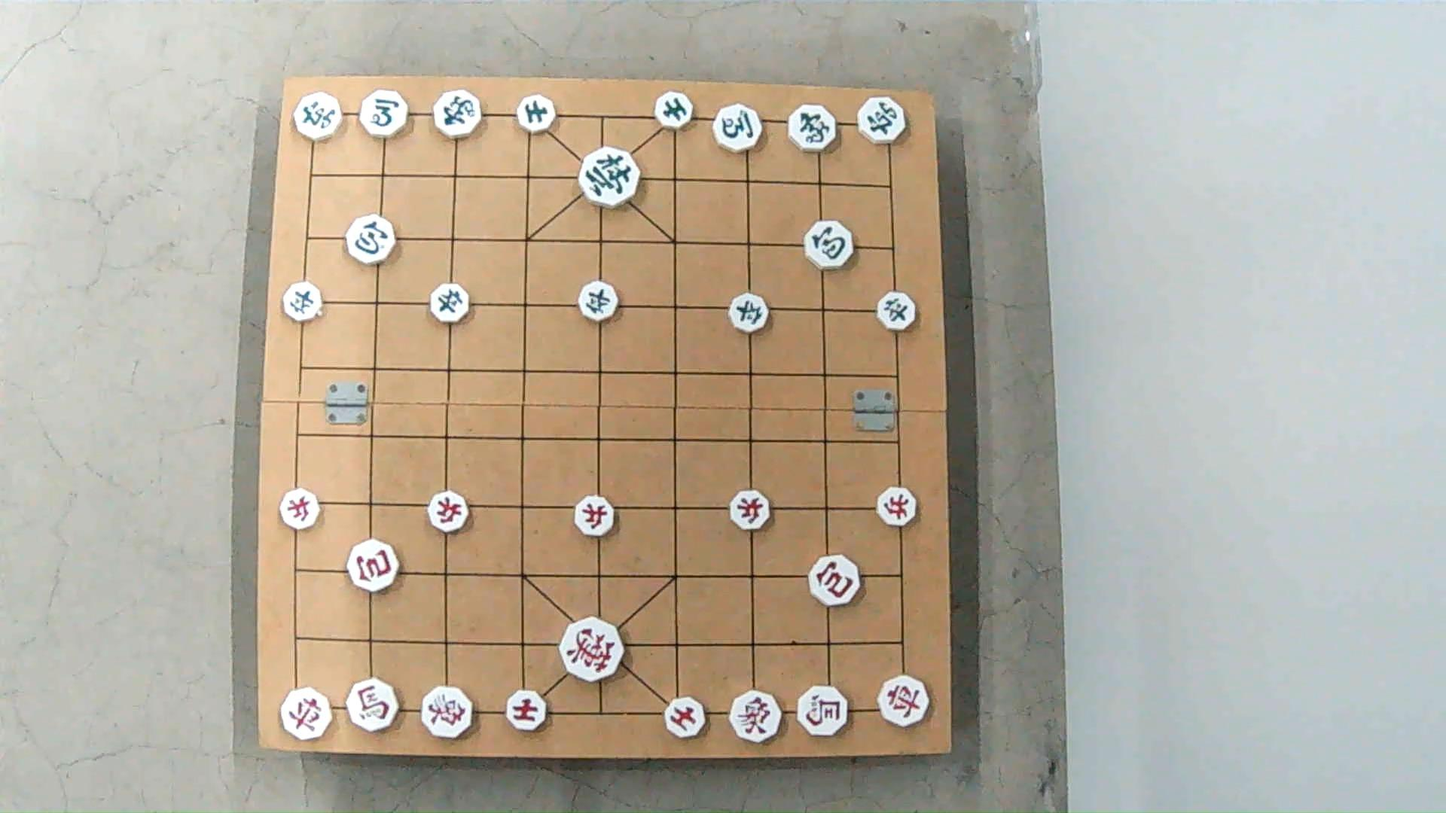cha_green: (294, 93, 342, 139), (856, 99, 905, 143)
cha_red: (283, 687, 334, 738), (880, 677, 932, 723)
jol_green: (577, 284, 618, 323), (283, 282, 325, 320), (877, 293, 917, 331), (432, 284, 473, 321), (728, 296, 768, 333)
jol_red: (429, 492, 471, 531), (577, 496, 619, 535), (728, 491, 770, 529), (281, 490, 322, 528), (874, 489, 917, 525)
ma_green: (359, 90, 410, 136), (713, 106, 764, 151)
ma_red: (347, 681, 401, 731), (799, 684, 848, 735)
po_green: (343, 216, 395, 262), (804, 221, 854, 267)
po_red: (806, 556, 859, 605), (347, 544, 401, 592)
sa_green: (517, 98, 558, 134), (652, 96, 694, 130)
sa_red: (663, 699, 708, 737), (504, 693, 546, 731)
sang_green: (786, 105, 838, 155), (432, 90, 482, 136)
sang_red: (419, 687, 475, 738), (725, 690, 783, 738)
wang_green: (580, 149, 643, 206)
wang_red: (562, 623, 627, 682)
